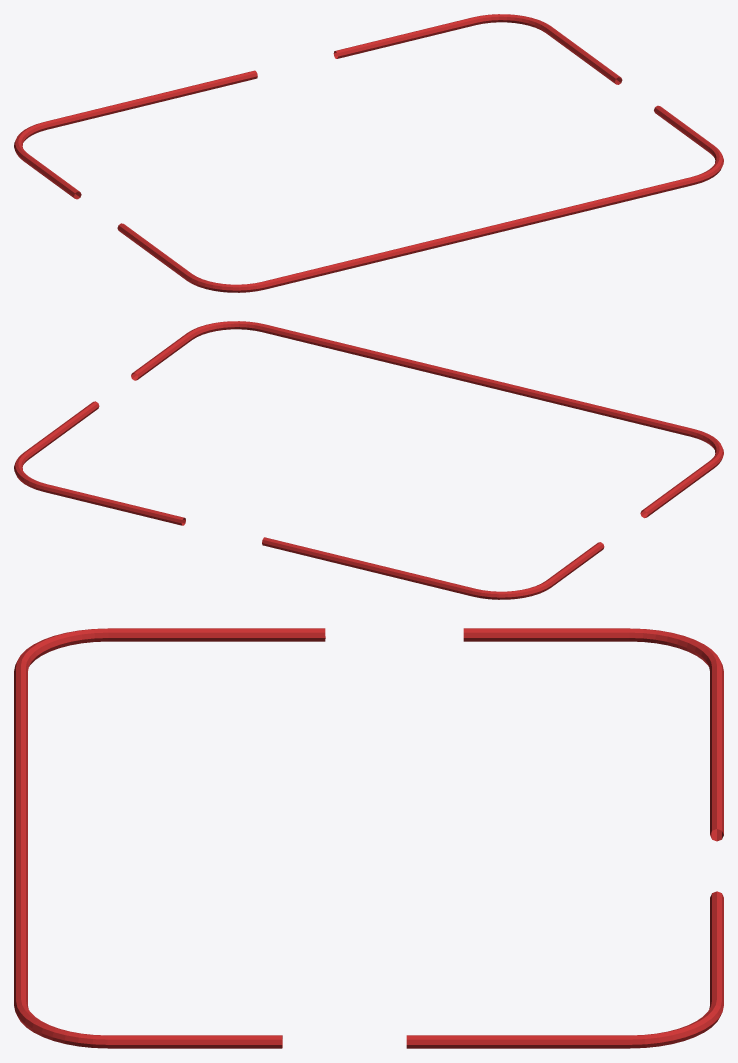
The picture shows the model from 3 angles, top to bottom: view 1: azimuth 30°, elevation 25°; view 2: azimuth 150°, elevation 25°; view 3: azimuth 270°, elevation 25°; orthographic projection. The views are drawn at different scales.
Parts seen in each view (by area): view 1: 1; view 2: 1; view 3: 1.
Part boxes in pixels (box(x1,y1,x2,y2)): 1: box(14, 14, 723, 292); 1: box(14, 321, 723, 599); 1: box(14, 628, 723, 1048).
Bounding box in the file's own units: 416 × 5.93 × 303.
